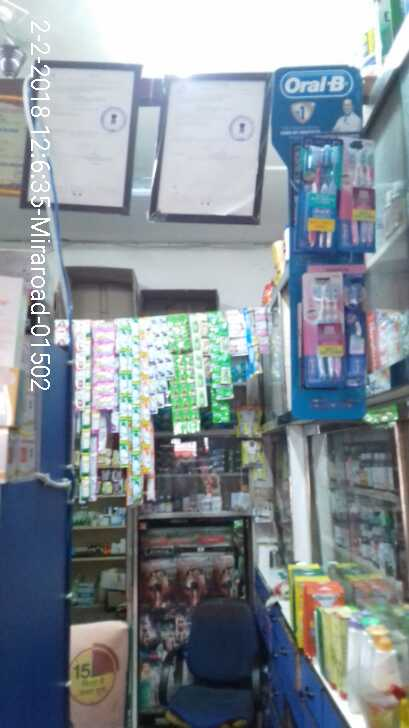oralb: (341, 132, 383, 253), (294, 127, 334, 251), (308, 263, 342, 386)
